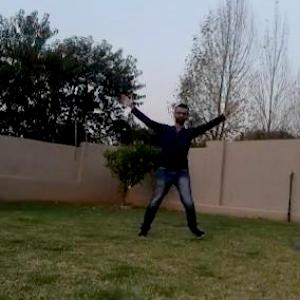takeoff: (104, 87, 220, 241)
